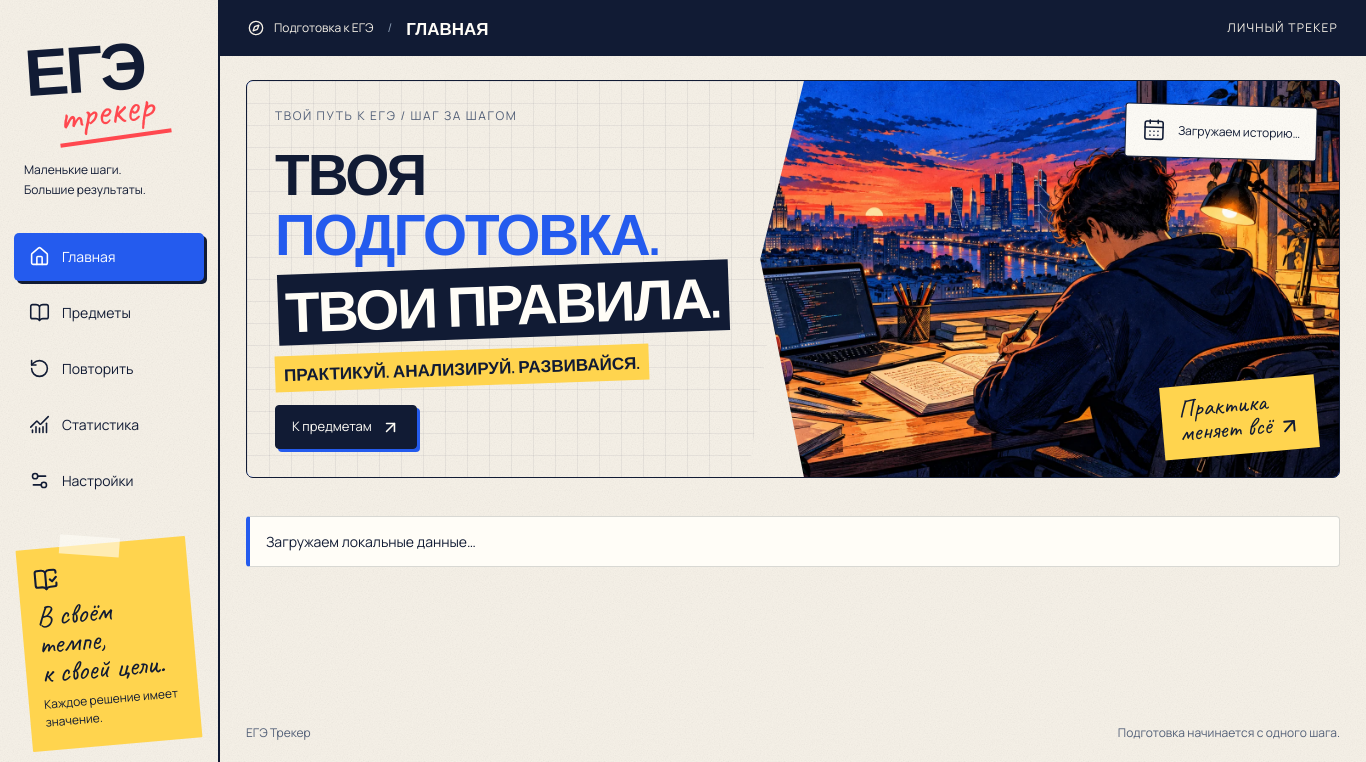
Навигация каркаса › открывает все основные разделы и обозначает текущий
Click the link "Предметы" at [80, 313], box [29,302,131,323]
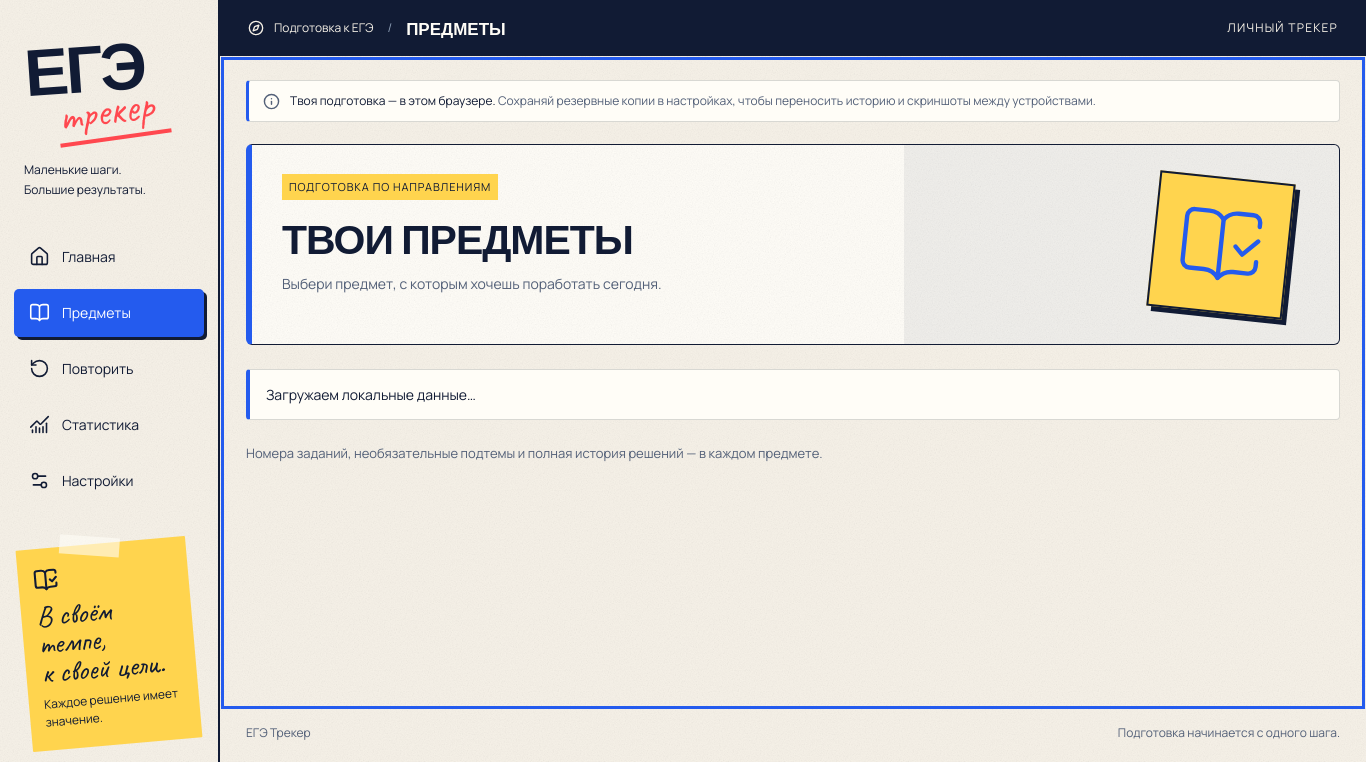
Check: the heading "Твои предметы" is shown, box [282,205,633,266]
Click the link "Повторить" at [81, 369], box [29,358,134,379]
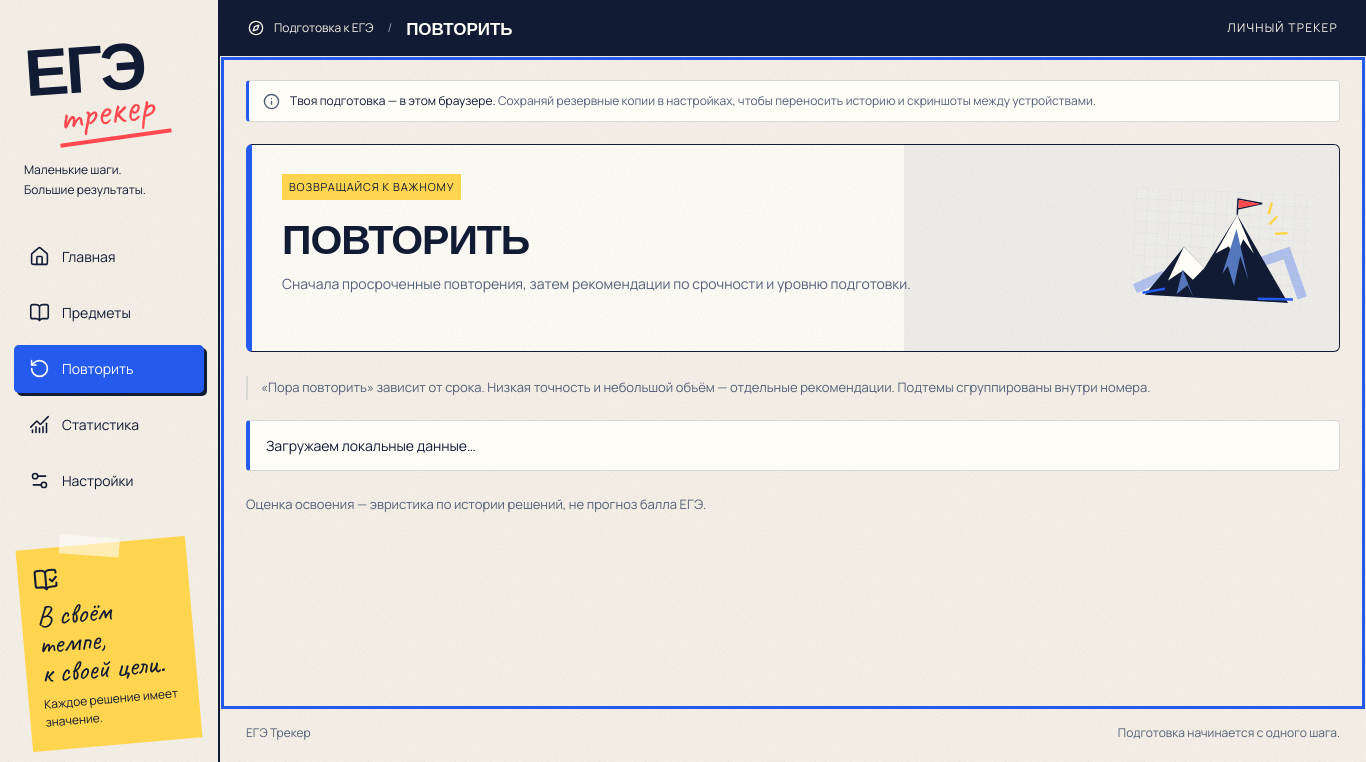
Check: the heading "Повторить" is shown, box [282,205,529,266]
Click the link "Статистика" at [84, 425], box [29,414,139,435]
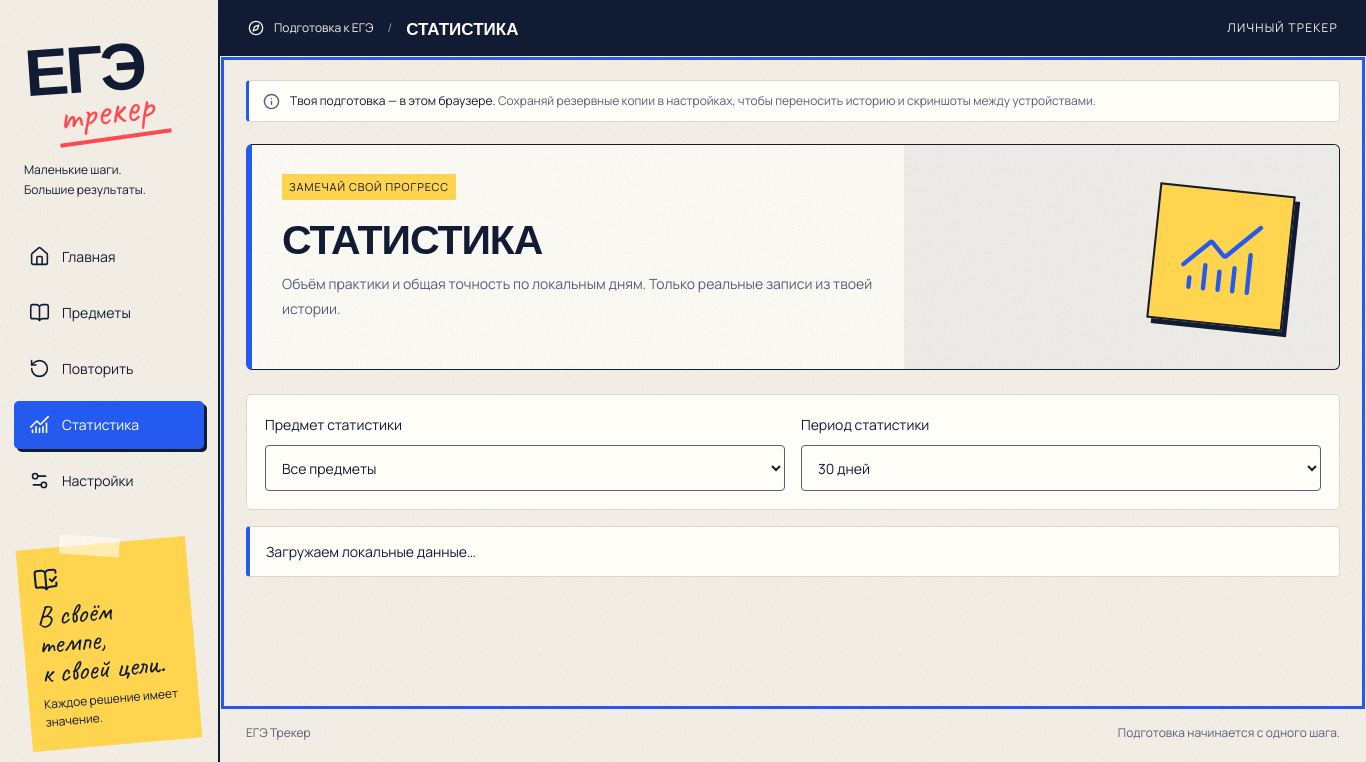
Check: the heading "Статистика" is shown, box [282,205,542,266]
Click the link "Настройки" at [81, 481], box [29,470,134,491]
(page scrolled)
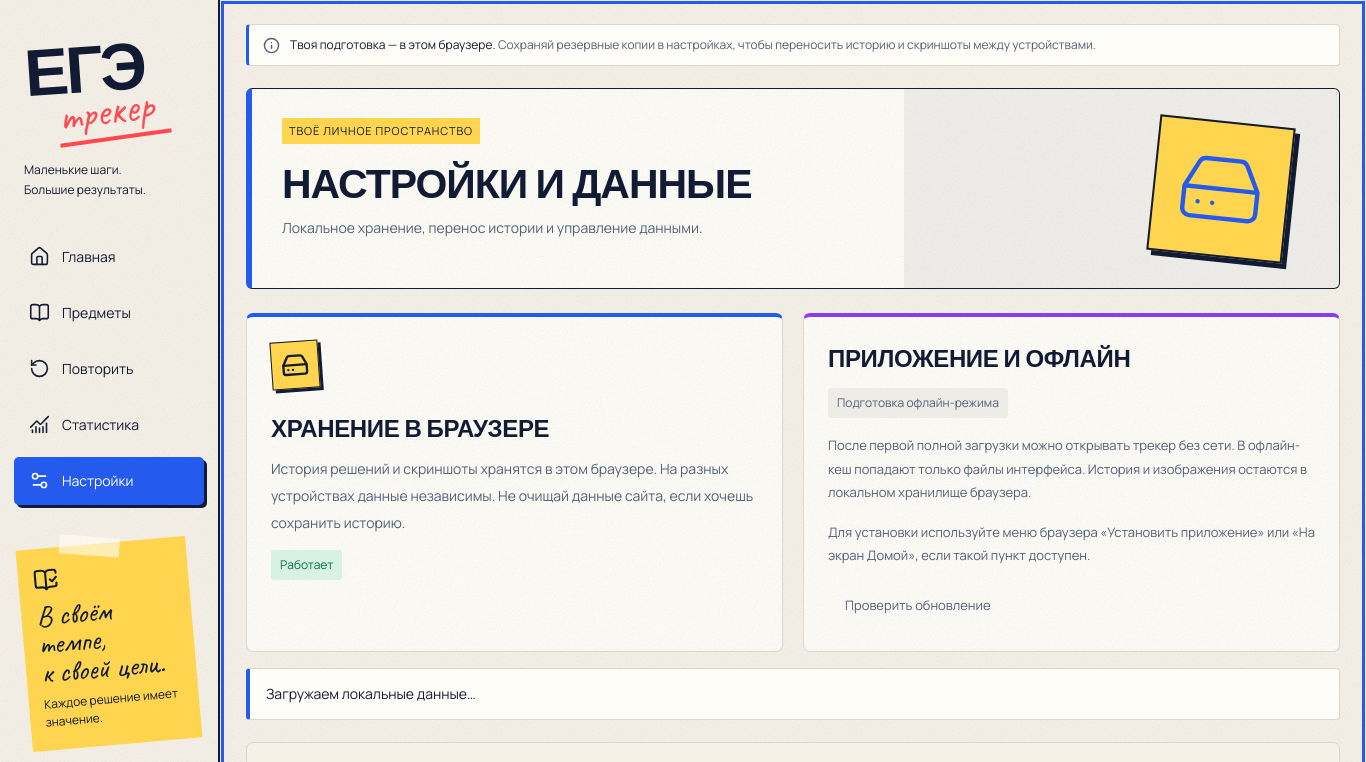
Check: the heading "Настройки и данные" is shown, box [282,149,752,210]
Click the link "Главная" at [72, 257], box [29,246,115,267]
(page scrolled)
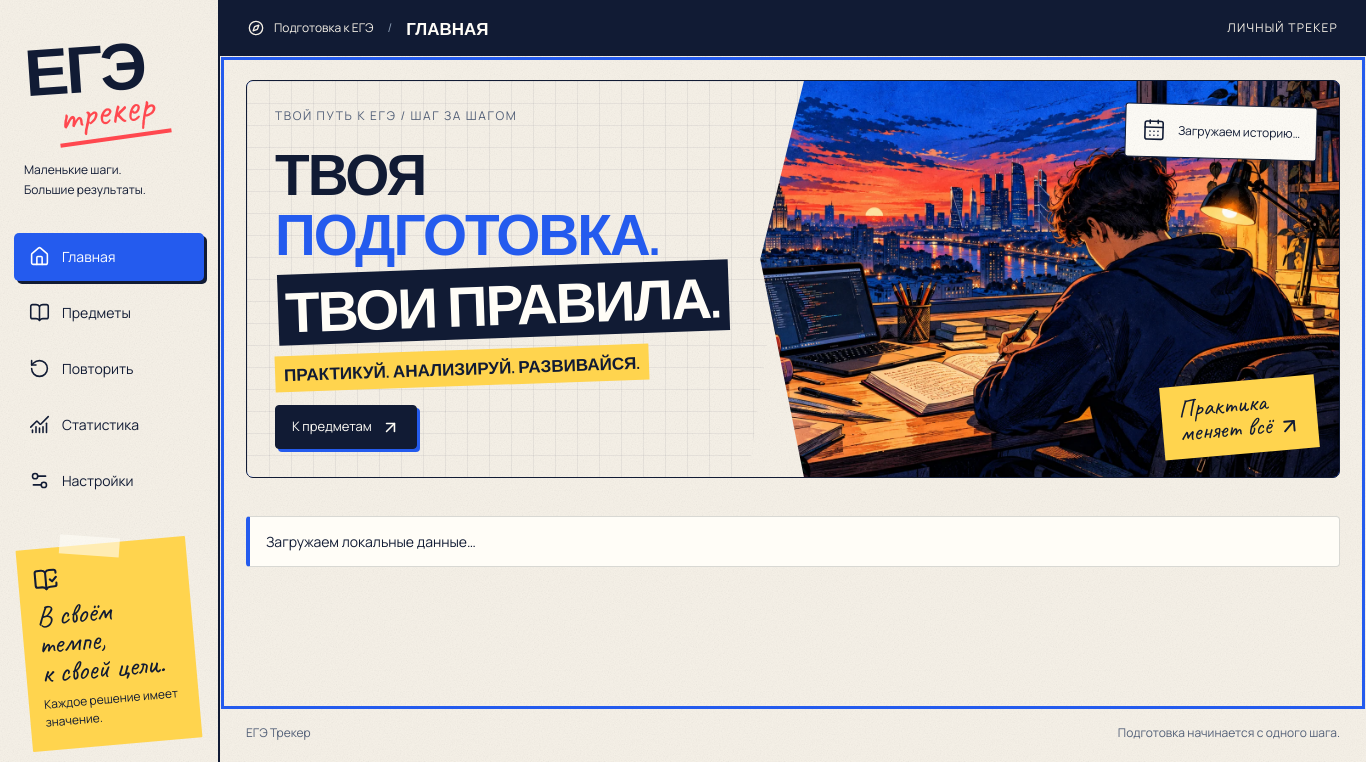
Check: the heading "Твоя подготовка. Твои правила." is shown, box [275,127,730,345]
